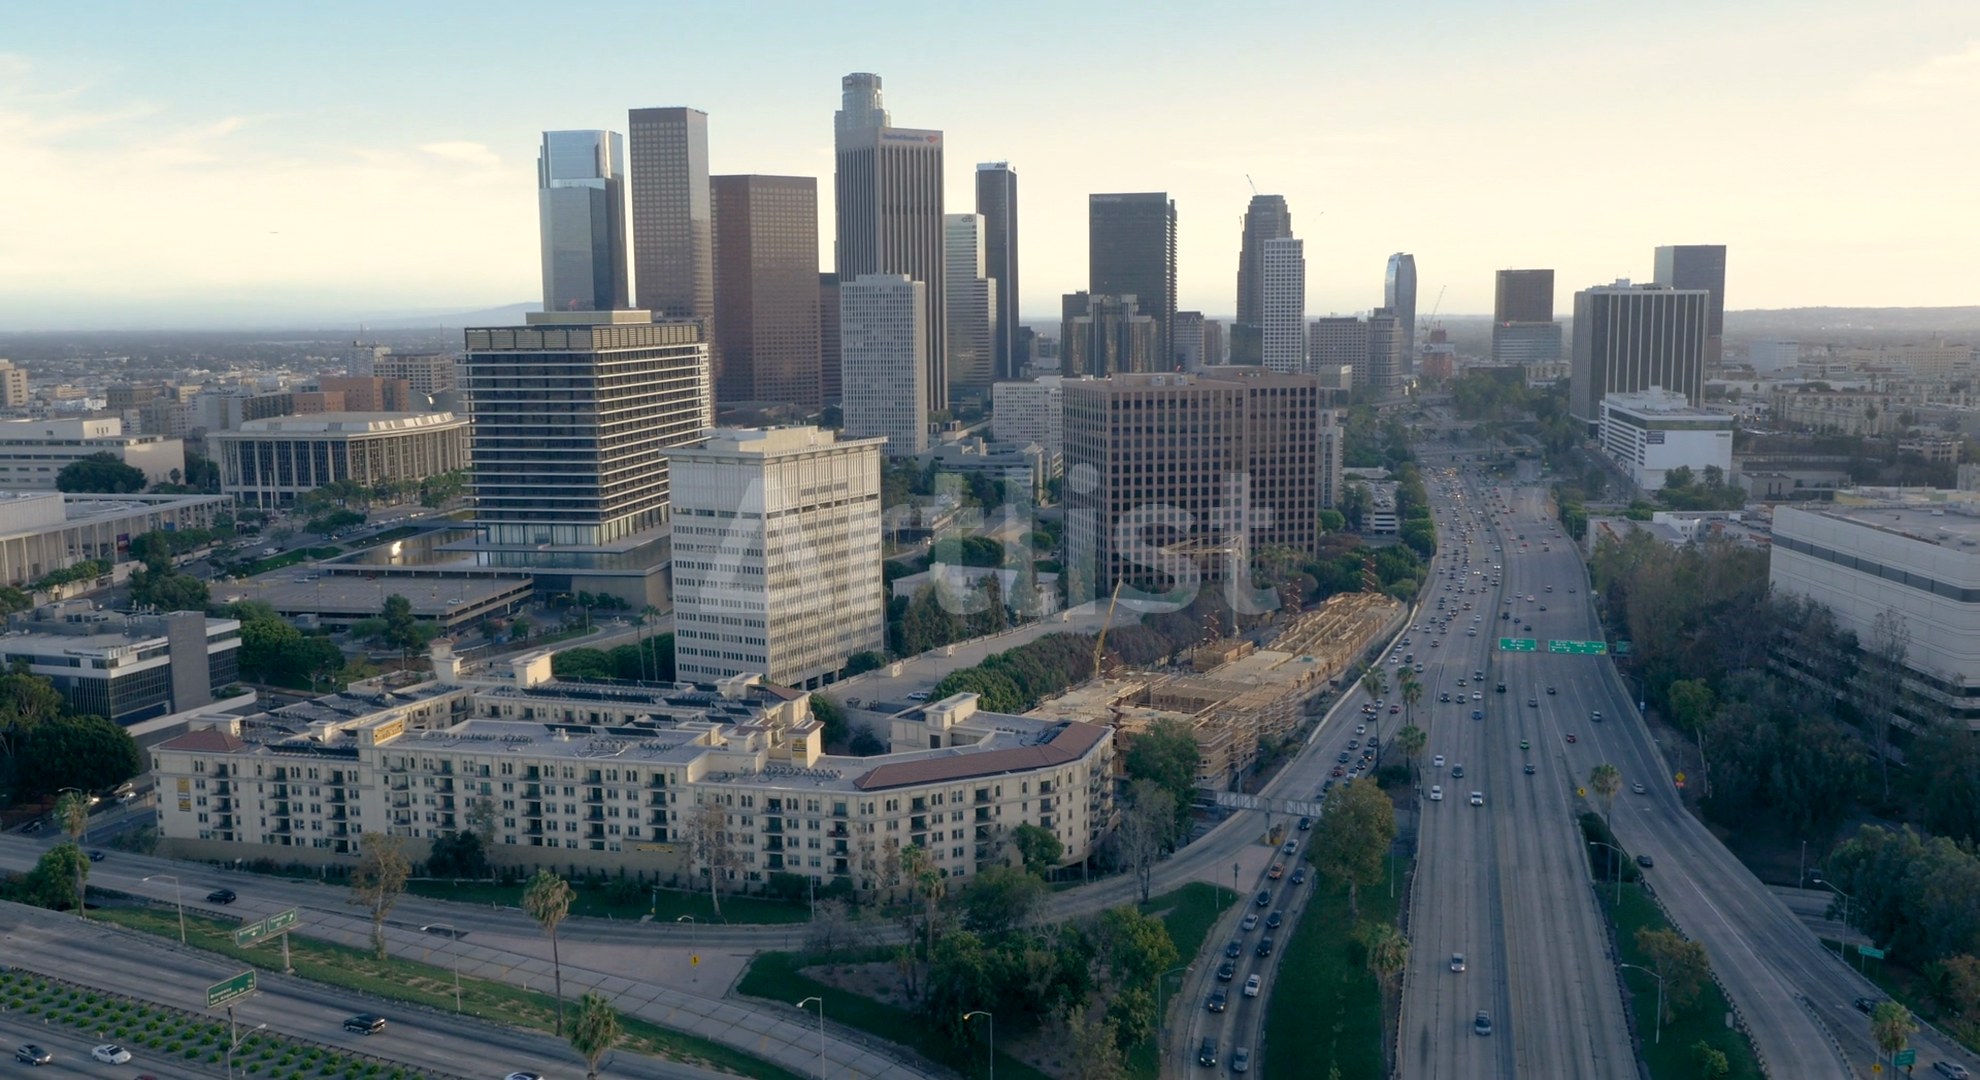building: (194, 736, 844, 854), (676, 444, 892, 668), (1070, 386, 1319, 576), (1719, 496, 1980, 664), (473, 333, 668, 535), (715, 182, 824, 400), (851, 765, 1089, 863), (839, 69, 937, 278), (539, 128, 634, 301), (629, 113, 710, 313), (233, 422, 455, 479), (1574, 298, 1701, 394), (848, 287, 924, 440), (1608, 400, 1734, 479), (1089, 198, 1178, 291), (985, 166, 1027, 356), (948, 210, 989, 394), (1501, 273, 1558, 359), (1266, 243, 1304, 370), (1077, 307, 1157, 367), (996, 384, 1062, 456), (1674, 246, 1727, 325), (1306, 323, 1367, 375), (1375, 319, 1400, 383), (1392, 259, 1419, 318)
car: (1832, 990, 1883, 1008), (1916, 1056, 1967, 1075), (1636, 850, 1664, 874), (104, 1048, 134, 1067), (350, 1017, 379, 1035), (1195, 1040, 1215, 1063), (1205, 987, 1223, 1010), (1449, 950, 1467, 972), (1475, 1011, 1491, 1032), (217, 891, 241, 904), (28, 1045, 48, 1059), (1235, 1048, 1247, 1069), (1431, 787, 1441, 799), (1565, 732, 1576, 743), (1472, 610, 1483, 622), (1480, 572, 1491, 584), (1388, 654, 1399, 666), (1259, 891, 1270, 903), (1527, 697, 1537, 708), (1472, 690, 1483, 701), (1513, 589, 1524, 600), (1436, 601, 1447, 612), (1481, 555, 1492, 565), (1375, 700, 1386, 710), (1367, 709, 1378, 720), (1355, 724, 1366, 734), (1299, 818, 1310, 829), (1229, 942, 1239, 952), (1247, 979, 1258, 990), (1472, 793, 1481, 805), (1521, 740, 1531, 751), (1593, 710, 1602, 722), (1473, 670, 1483, 682), (1525, 622, 1535, 634), (1472, 567, 1481, 579), (1468, 587, 1477, 599), (1439, 625, 1448, 637), (1415, 661, 1424, 673), (1390, 702, 1399, 714), (1424, 624, 1433, 636), (1429, 612, 1439, 624), (1366, 749, 1375, 761), (1335, 763, 1344, 775), (1295, 870, 1304, 882), (1270, 914, 1279, 926), (1246, 914, 1255, 926), (1452, 766, 1461, 777), (1435, 755, 1444, 766), (1525, 763, 1535, 774), (1547, 685, 1556, 696), (1497, 682, 1507, 693), (1472, 709, 1481, 720), (1457, 694, 1467, 705), (1459, 676, 1468, 686), (1440, 692, 1449, 702), (1633, 781, 1642, 791), (1467, 626, 1476, 637), (1501, 610, 1511, 621), (1512, 616, 1521, 626), (1539, 603, 1548, 613), (1525, 593, 1535, 604), (1504, 596, 1513, 607), (1544, 584, 1553, 595), (1566, 584, 1576, 595), (1491, 577, 1500, 588), (1479, 584, 1488, 595), (1463, 601, 1472, 612), (1431, 638, 1440, 649), (1406, 653, 1415, 664), (1402, 637, 1411, 648), (1410, 622, 1419, 633), (1444, 583, 1453, 593), (1447, 571, 1456, 581), (1436, 565, 1445, 576), (1360, 701, 1370, 712), (1370, 737, 1379, 747), (1348, 738, 1358, 749), (1339, 751, 1348, 762), (1358, 758, 1367, 769), (1347, 767, 1356, 778), (1287, 841, 1297, 851), (1326, 779, 1335, 790), (1273, 863, 1282, 874), (1261, 942, 1270, 952), (1222, 964, 1231, 975), (96, 855, 105, 861)
directionsign: (237, 907, 303, 943), (1218, 791, 1322, 814), (199, 972, 253, 1011), (1499, 641, 1637, 653), (1832, 943, 1884, 956), (1878, 1049, 1916, 1060)
